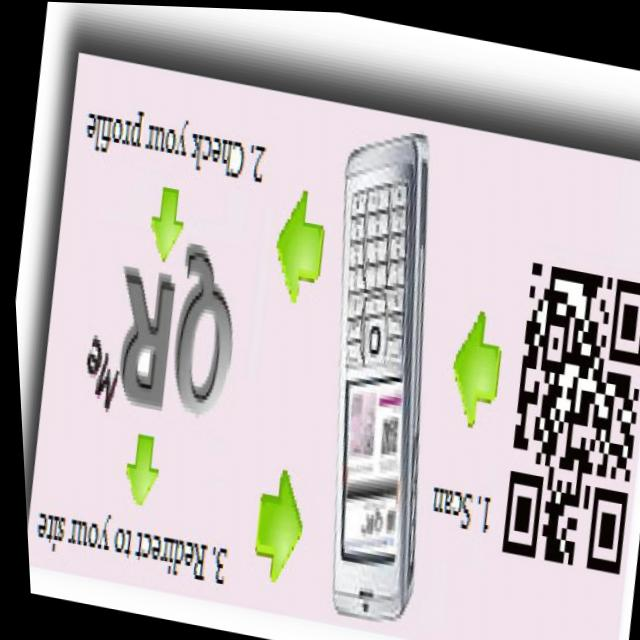qrcode: (486, 261, 640, 570)
